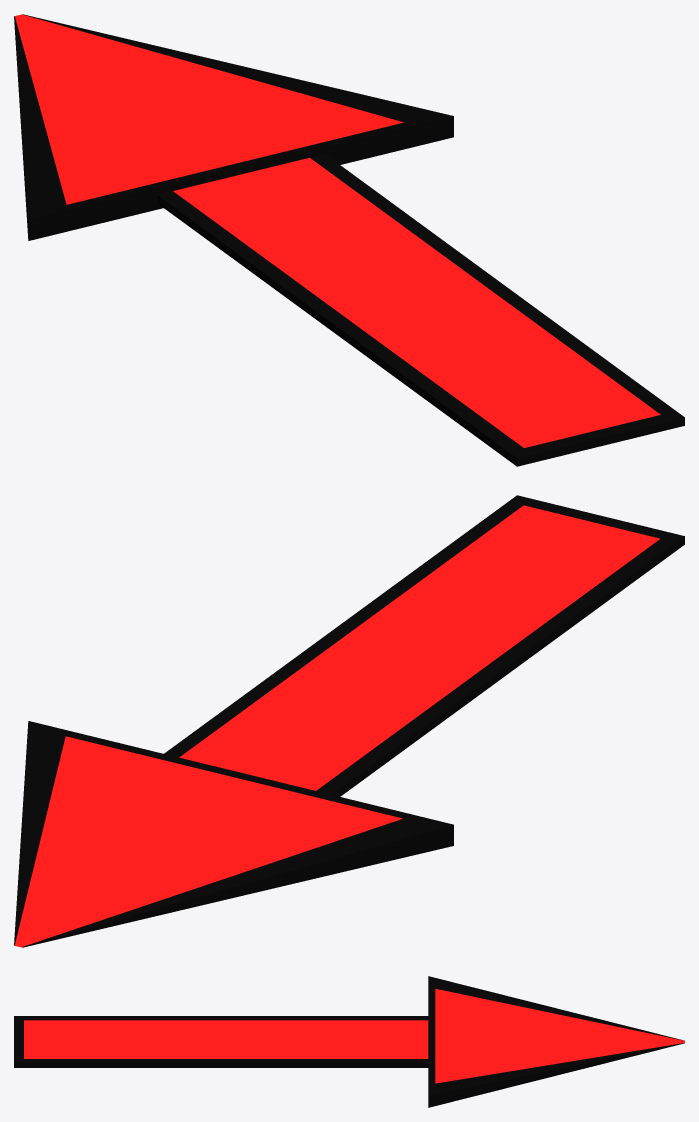
File: RedArrow1.fbx
3 views of the same model, one above another, from view 1: azimuth 30°, elevation 25°; view 2: azimuth 150°, elevation 25°; view 3: azimuth 270°, elevation 25° (orthographic). The views are drawn at different scales.
Visible parts, largest first — view 1: Cube; view 2: Cube; view 3: Cube.
Part boxes in pixels (<box>): Cube: <box>14,14,684,466</box>; Cube: <box>14,495,684,947</box>; Cube: <box>14,976,684,1107</box>.
Bounding box in the file's own units: 107 × 5.07 × 253.
